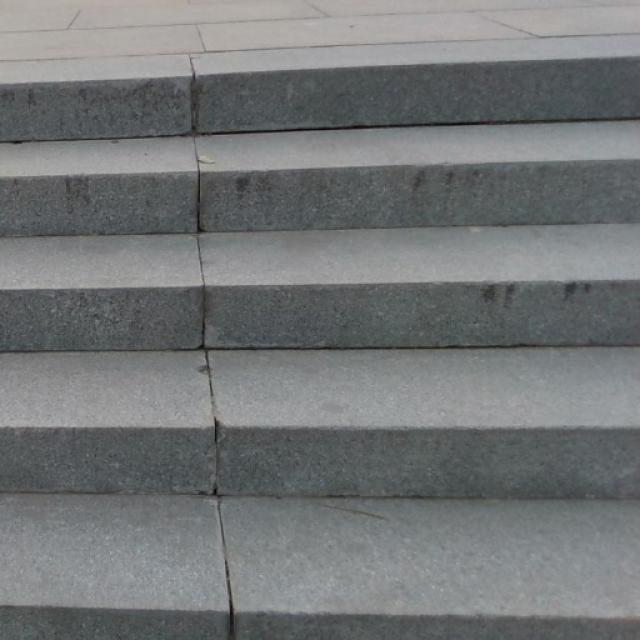Stairs: (0, 52, 639, 638)
